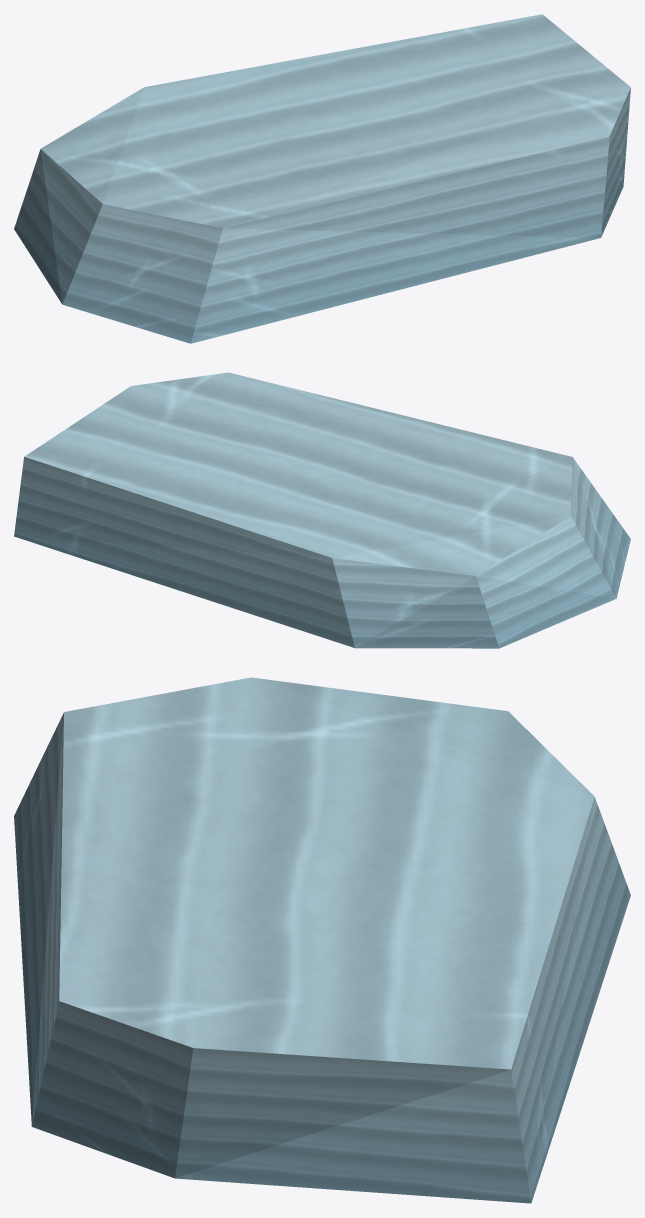
The model's file is ice_tabular_floe_LOD1.glb.
3 views of the same model, one above another, from view 1: azimuth 30°, elevation 25°; view 2: azimuth 150°, elevation 25°; view 3: azimuth 270°, elevation 25° (orthographic). The views are drawn at different scales.
Parts seen in each view (by area): view 1: ice_tabular_floe_LOD1; view 2: ice_tabular_floe_LOD1; view 3: ice_tabular_floe_LOD1.
Boxes of the visible parts, x1,y1,x2,y2 form: ice_tabular_floe_LOD1: (14, 14, 630, 343); ice_tabular_floe_LOD1: (14, 372, 630, 648); ice_tabular_floe_LOD1: (14, 677, 630, 1203).
Bounding box in the file's own units: 3.08 × 0.47 × 1.87.
Materials: 1 (1 with a texture image).
